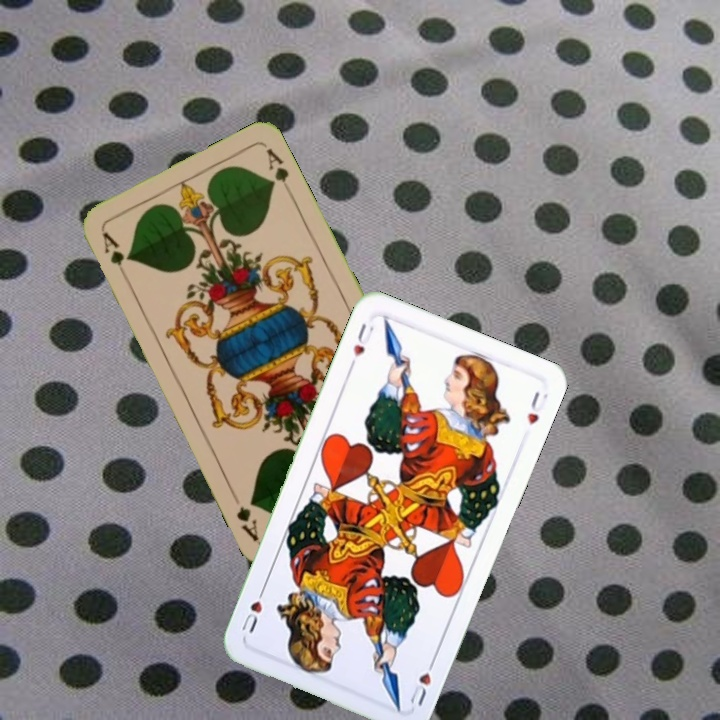GA: (99, 227, 132, 283)
HU: (405, 653, 439, 710), (345, 319, 377, 371)
